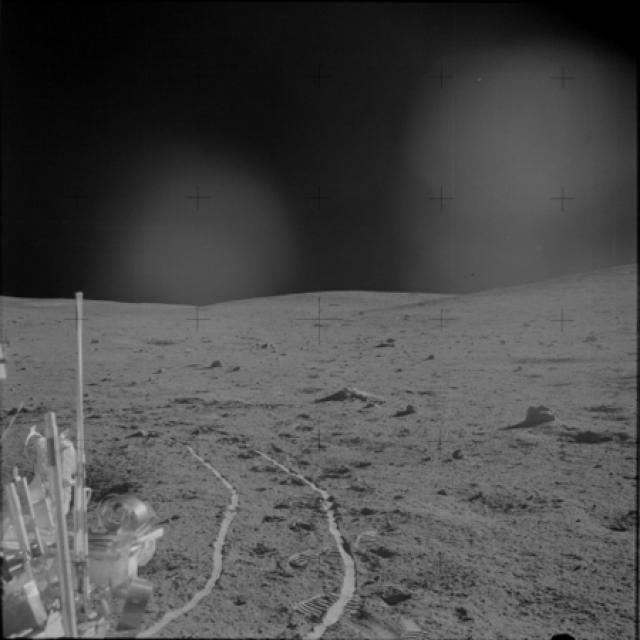crater: (384, 471, 570, 526), (507, 419, 626, 450), (571, 490, 639, 539), (104, 329, 188, 354)
rock: (317, 381, 379, 413), (512, 399, 555, 426), (199, 353, 229, 372), (398, 399, 428, 418), (370, 333, 401, 350)
